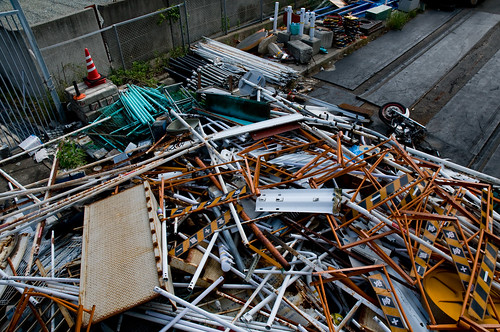debris: (1, 60, 500, 332)
traffic cone: (80, 48, 106, 89)
